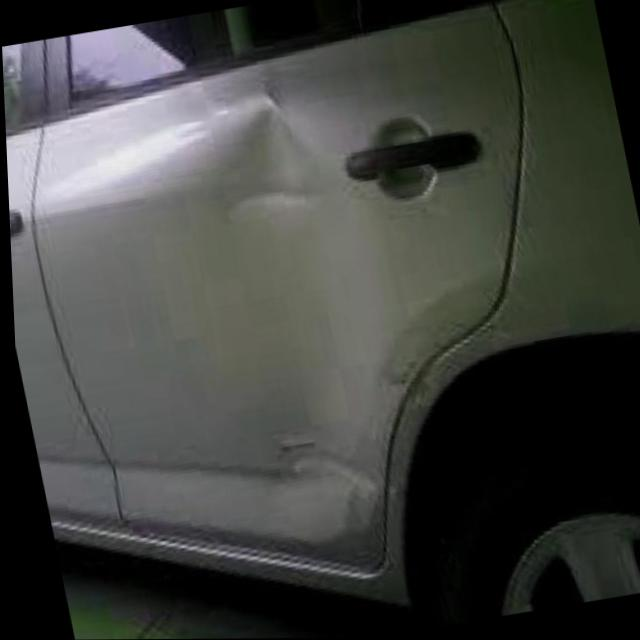Car-Damage: (265, 412, 418, 564), (183, 91, 336, 242), (372, 287, 525, 413)
